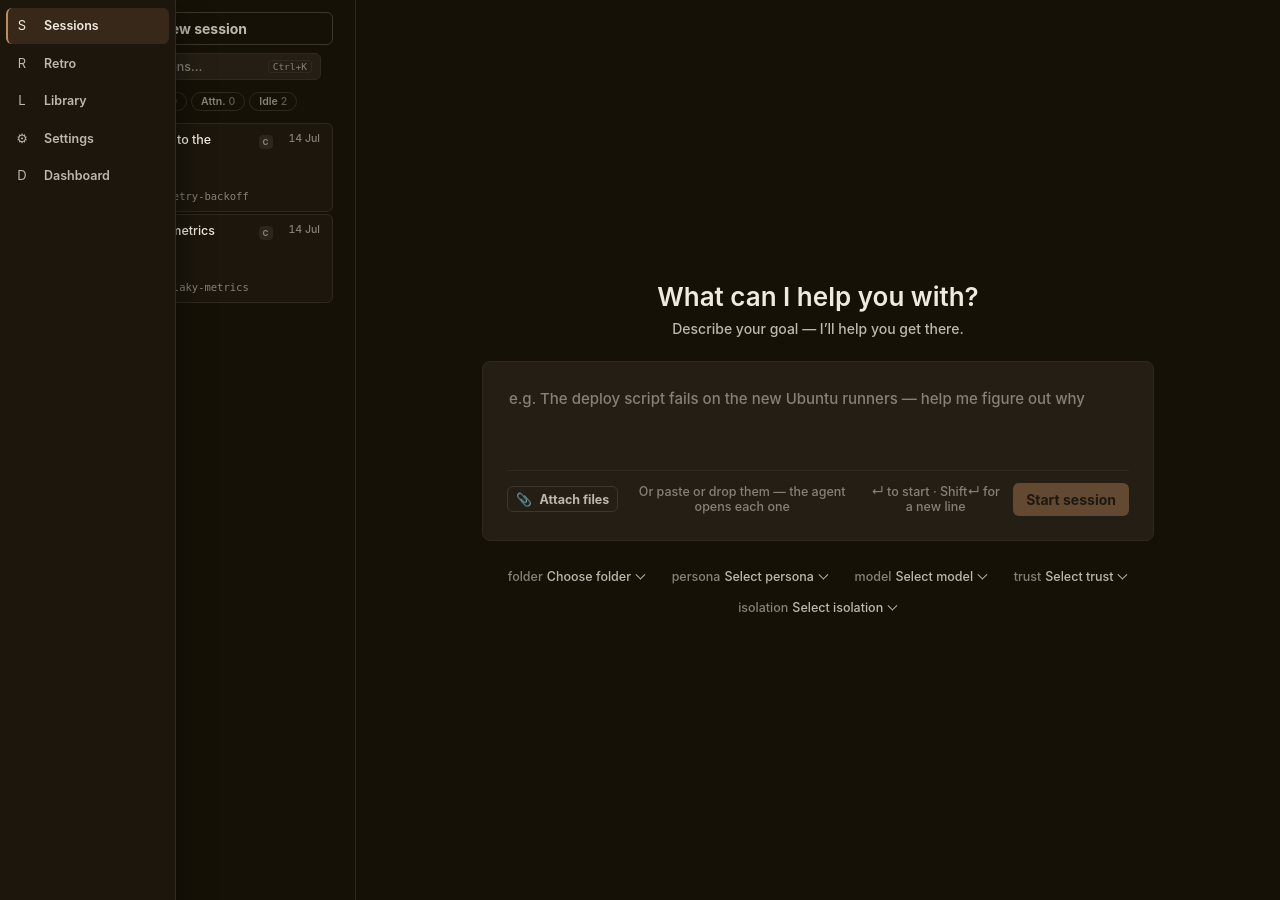
Test: App command palette (W6.11) › Run pipeline… opens that session's Tasks tab in Plan, starting nothing
Expected: the text "Add retry backoff to the ingest worker" is shown, [69,132,211,164]
Press P
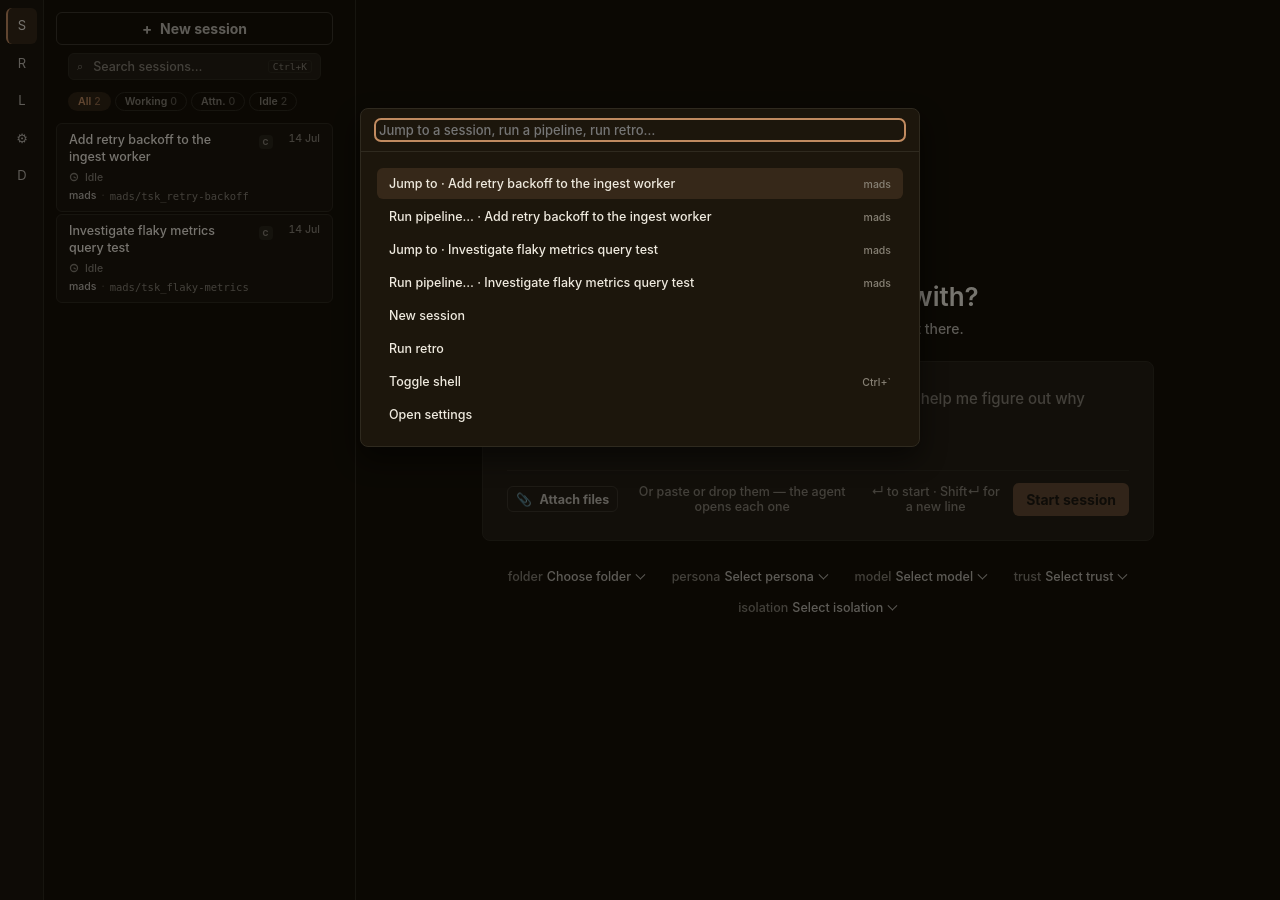
Click the button with test id "run-pipeline:session-active" at (640, 216), box [377,201,903,232]
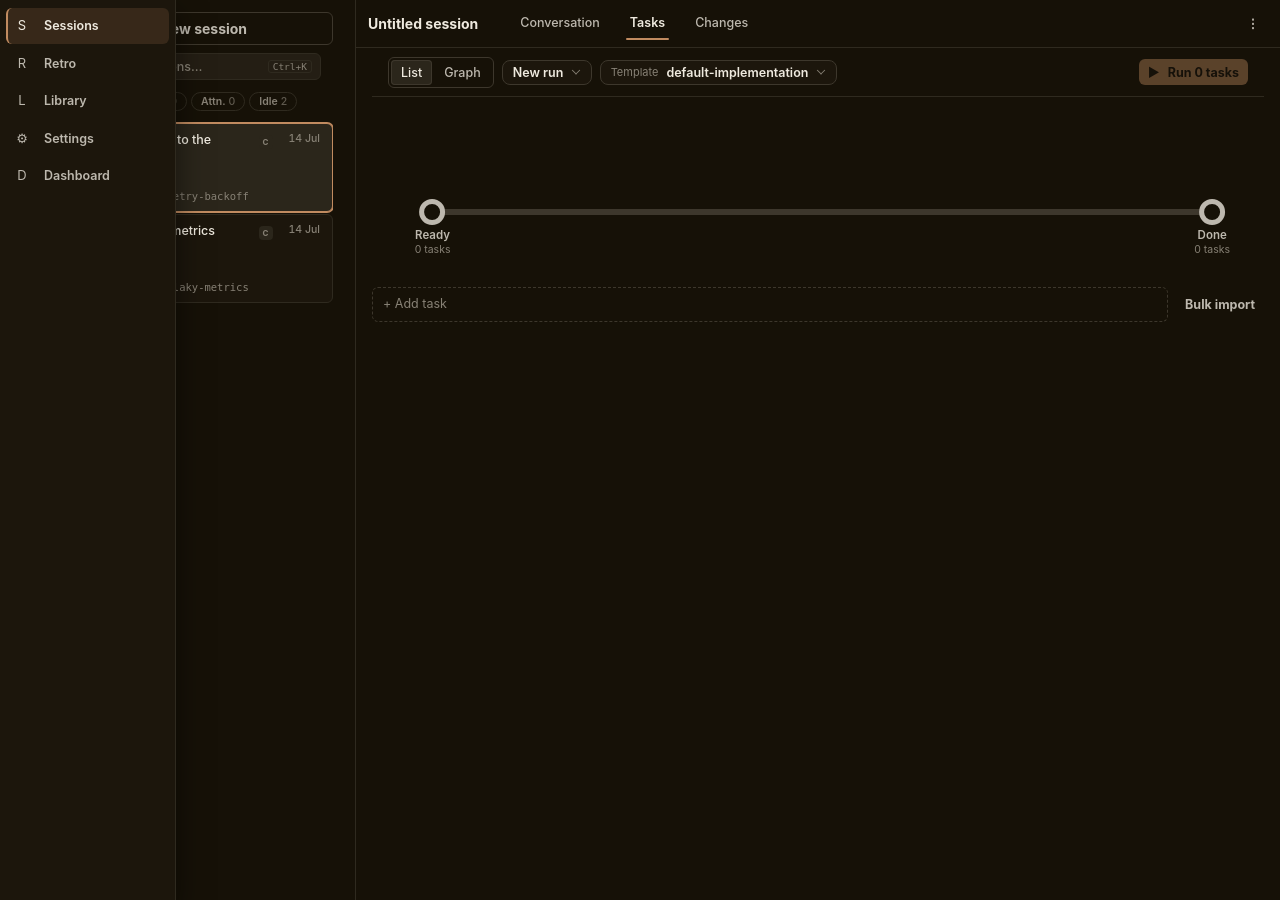
Result: the button "▶ Run 0 tasks" is shown at [1139,59,1248,85]
